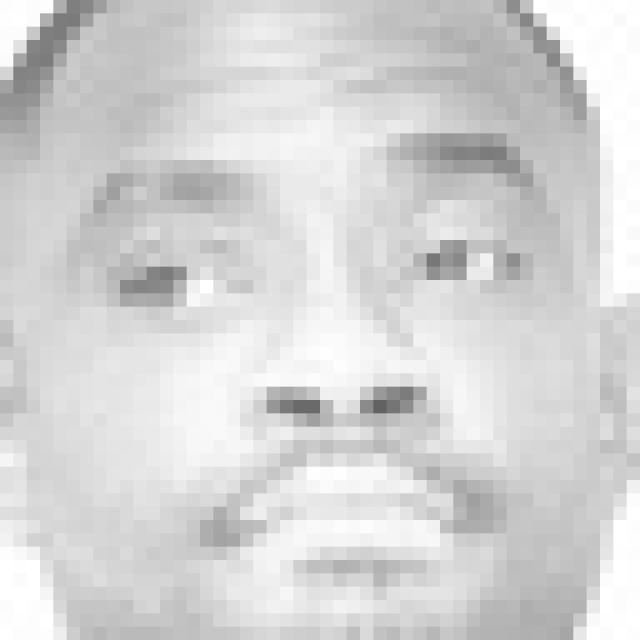neutral: (70, 124, 549, 589)
